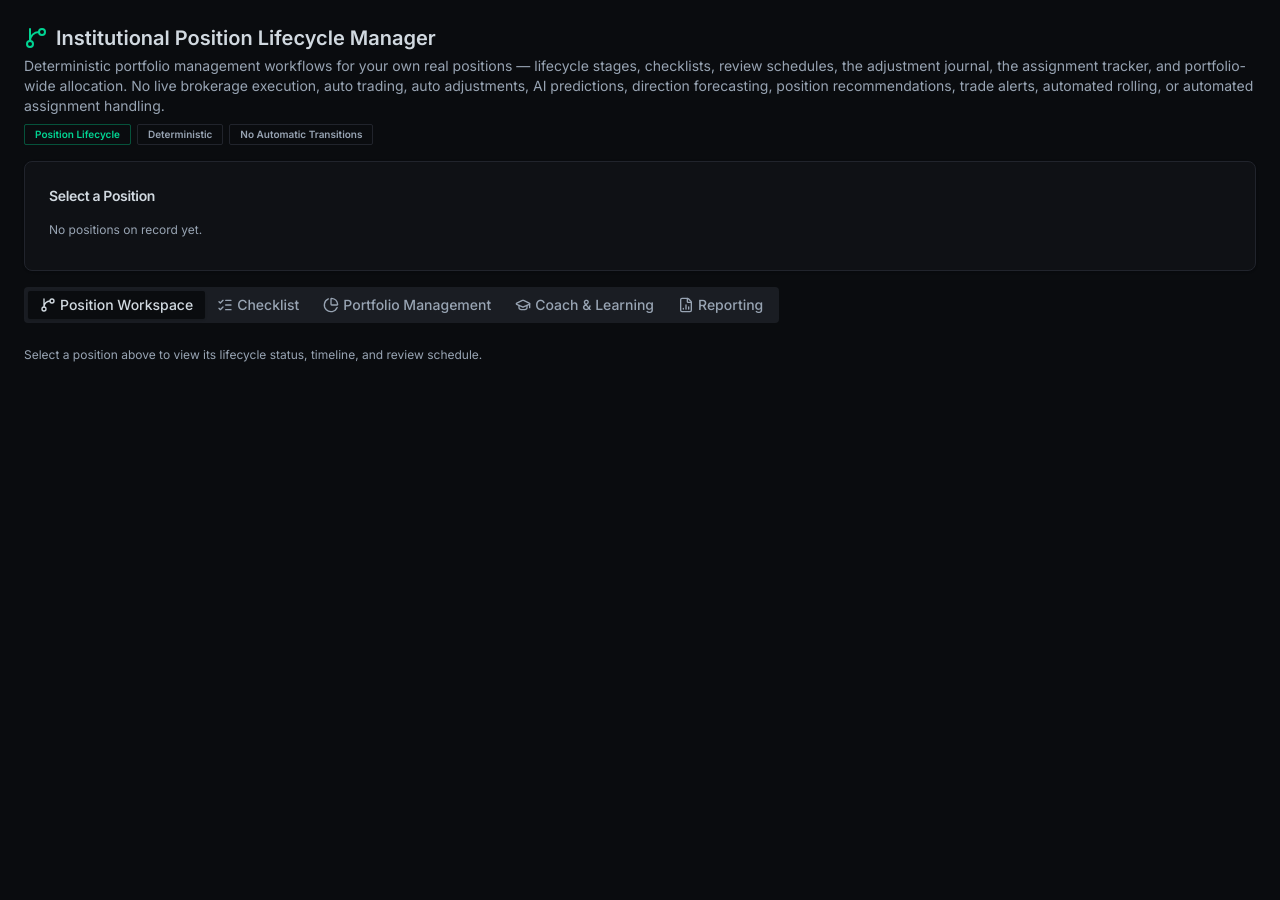
OptionsLifecycleManager › Portfolio Management shows real allocation figures and the Portfolio Exposure Timeline once resolved
Click the tab with test id "tab-olm-portfolio": point(407, 305) top-left (311, 291), bottom-right (503, 319)
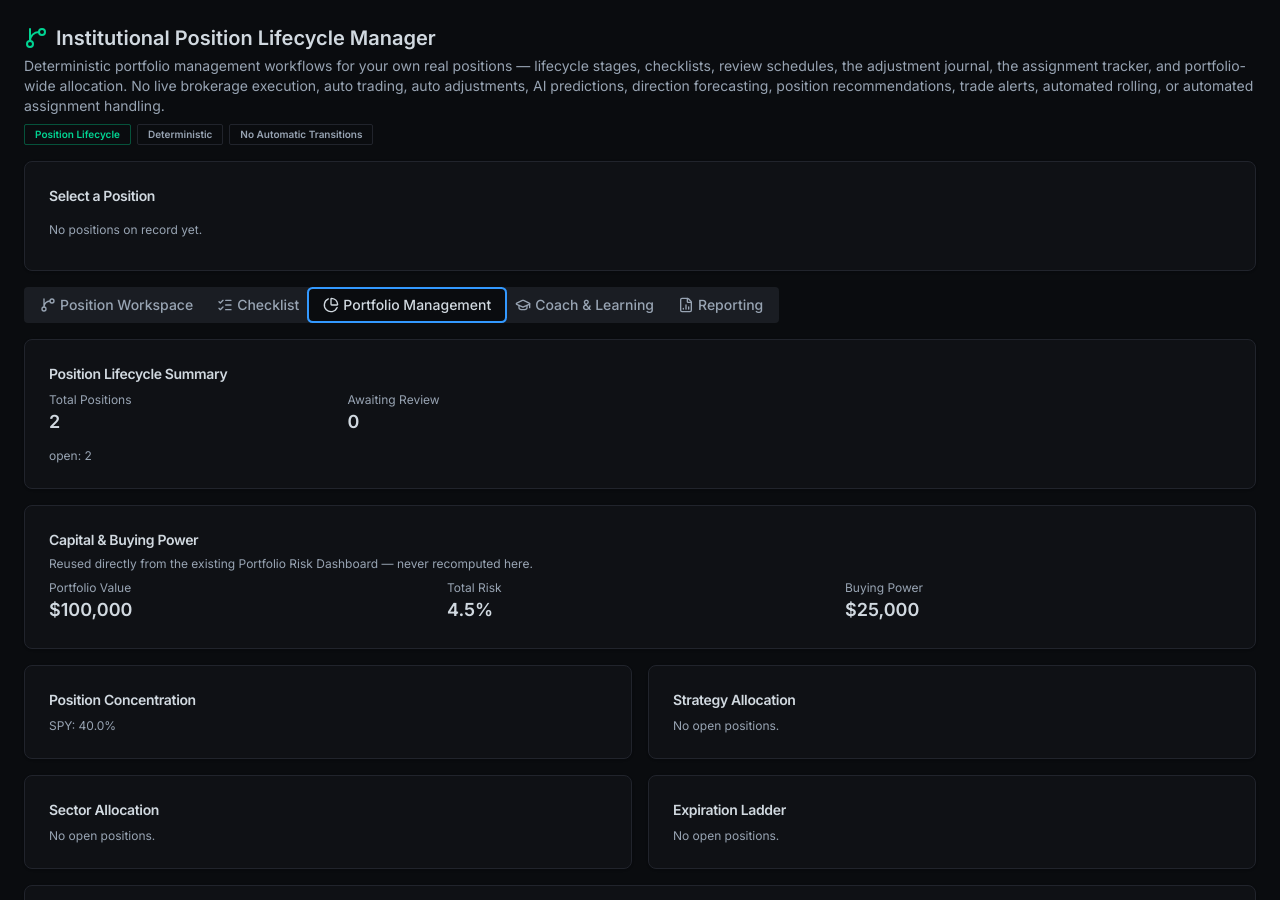
Check: the element with test id "panel-olm-position-concentration" shows "SPY: 40.0%", box top-left (24, 665), bottom-right (632, 759)
Check: the element with test id "panel-olm-capital-utilisation" shows "$100,000", box top-left (49, 599), bottom-right (132, 620)
Check: the list with test id "lifecycle-summary-by-stage" reads "open: 2", box top-left (49, 448), bottom-right (92, 463)
